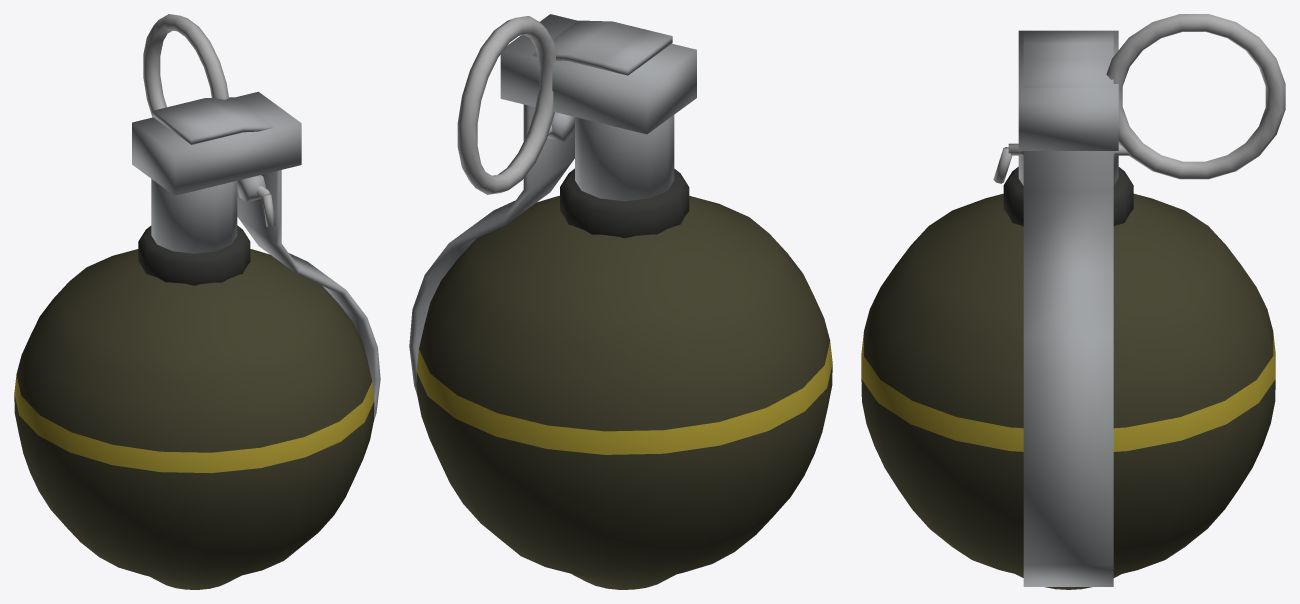
Rendered from GRN_HE.fbx.
3 renders of one model, left to right at view 1: azimuth 30°, elevation 25°; view 2: azimuth 150°, elevation 25°; view 3: azimuth 270°, elevation 25°, orthographic. The views are drawn at different scales.
Visible parts, largest first — view 1: HE_Body, HE_Spoon, HE_Pin; view 2: HE_Body, HE_Spoon, HE_Pin; view 3: HE_Body, HE_Spoon, HE_Pin.
Boxes of the visible parts, x1,y1,x2,y2 form: HE_Body: [14, 91, 374, 589]; HE_Spoon: [152, 97, 380, 420]; HE_Pin: [143, 14, 275, 226]; HE_Body: [416, 14, 832, 589]; HE_Spoon: [409, 20, 672, 393]; HE_Pin: [457, 16, 556, 194]; HE_Body: [861, 30, 1275, 589]; HE_Spoon: [1023, 31, 1113, 586]; HE_Pin: [993, 14, 1285, 183].
Size of the model in its own units: 0.0867 by 0.1288 by 0.0849.
